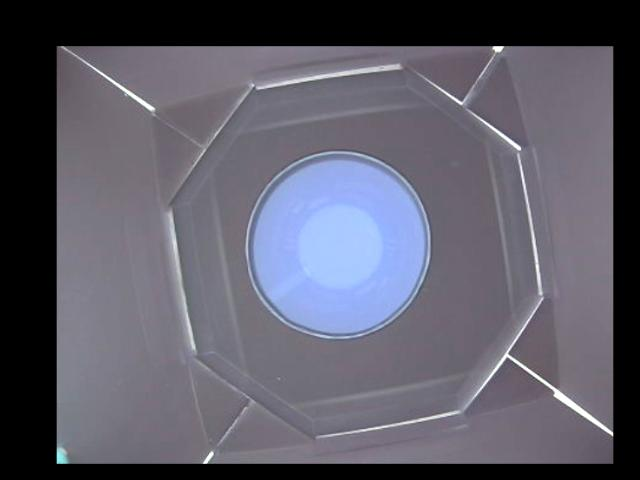Cup: (247, 149, 433, 340)
